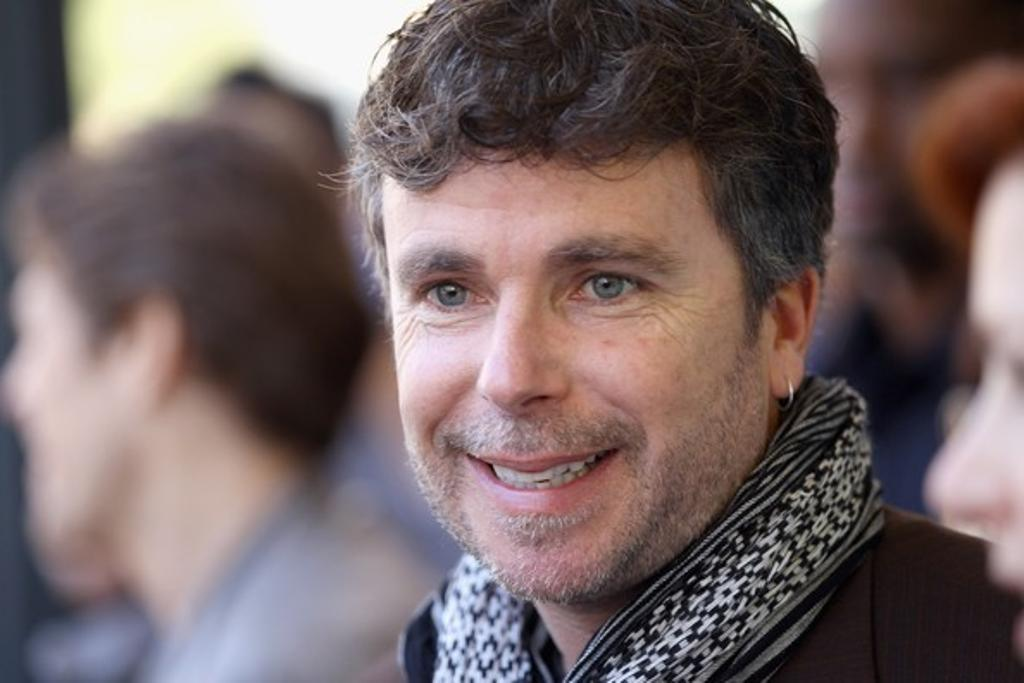face: (392, 134, 768, 600)
